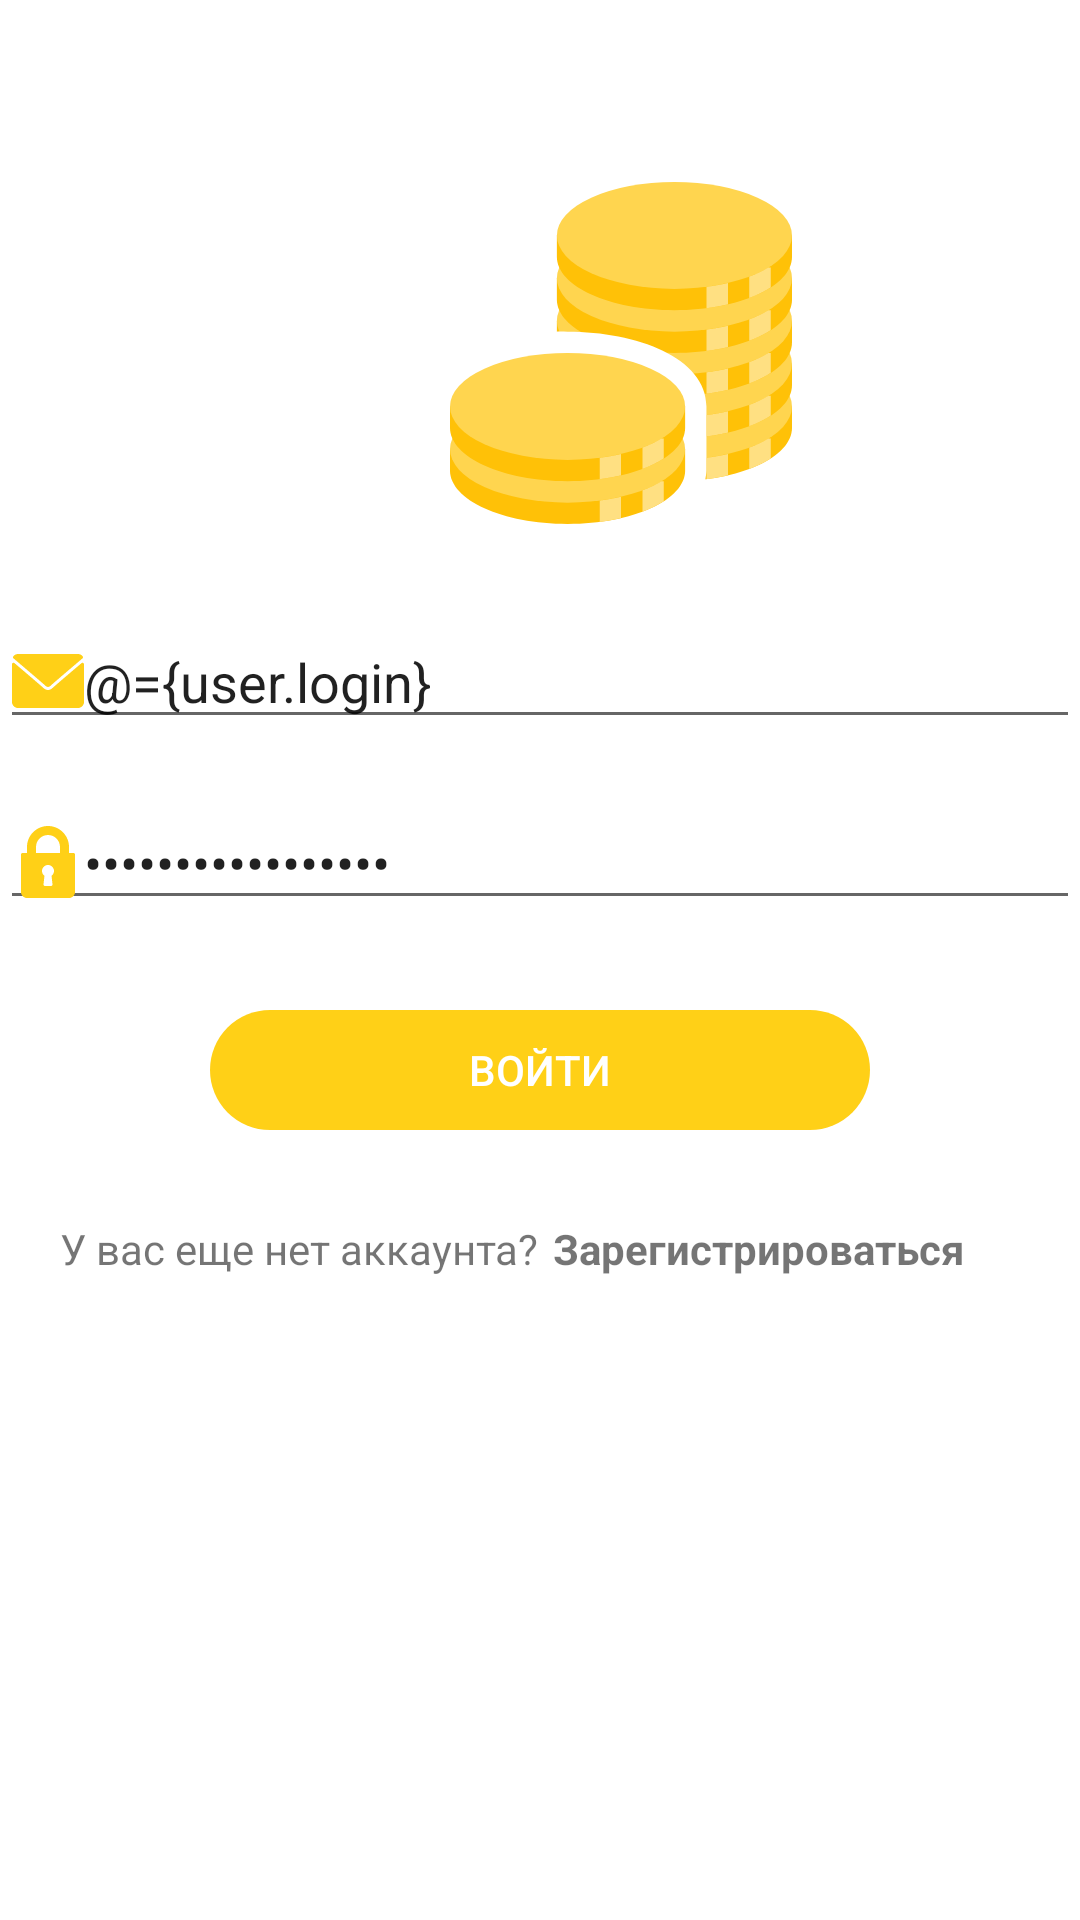

Icon bounding boxes for this 1080×1920 phone screenshot, format (x1, y1, x2, y2):
coins: (450, 182, 792, 524)
